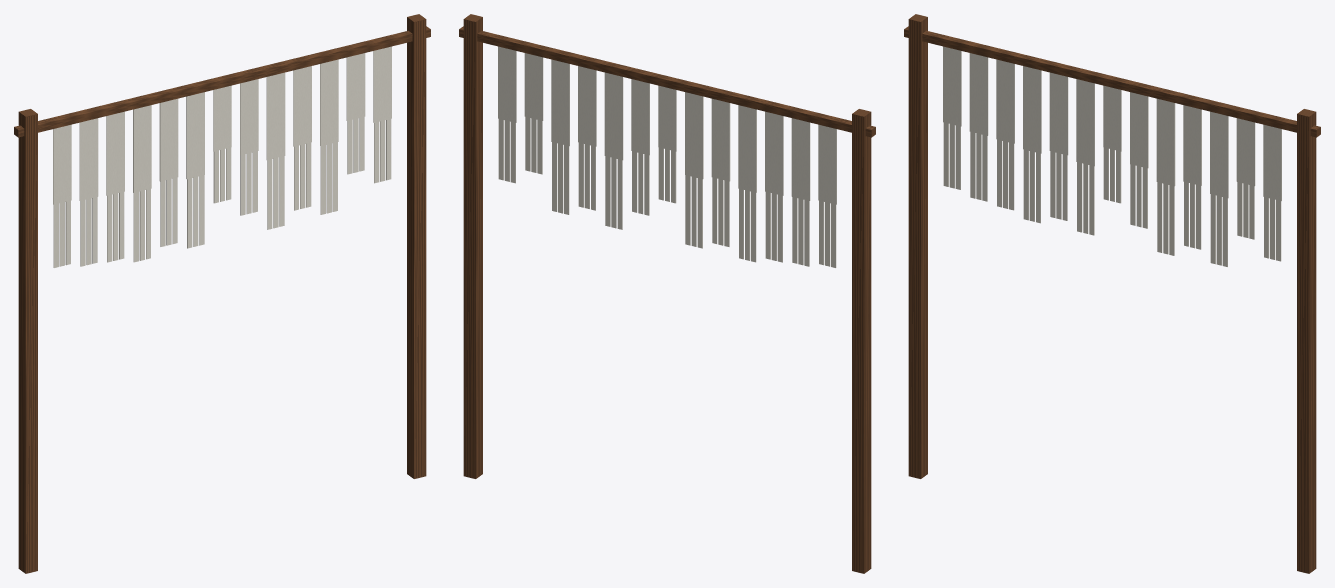
Rendered from z2_jijeon.obj.
3 views of the same model, side by side, from view 1: azimuth 30°, elevation 25°; view 2: azimuth 150°, elevation 25°; view 3: azimuth 330°, elevation 25° (orthographic).
Parts seen in each view (by area): view 1: jijeon; view 2: jijeon; view 3: jijeon.
Part boxes in pixels (bbox=[...]): jijeon: bbox=[14, 14, 430, 573]; jijeon: bbox=[459, 14, 875, 573]; jijeon: bbox=[904, 14, 1320, 573].
Bounding box in the file's own units: 1.7 × 1.8 × 0.05.
Materials: 2 (2 with a texture image).
